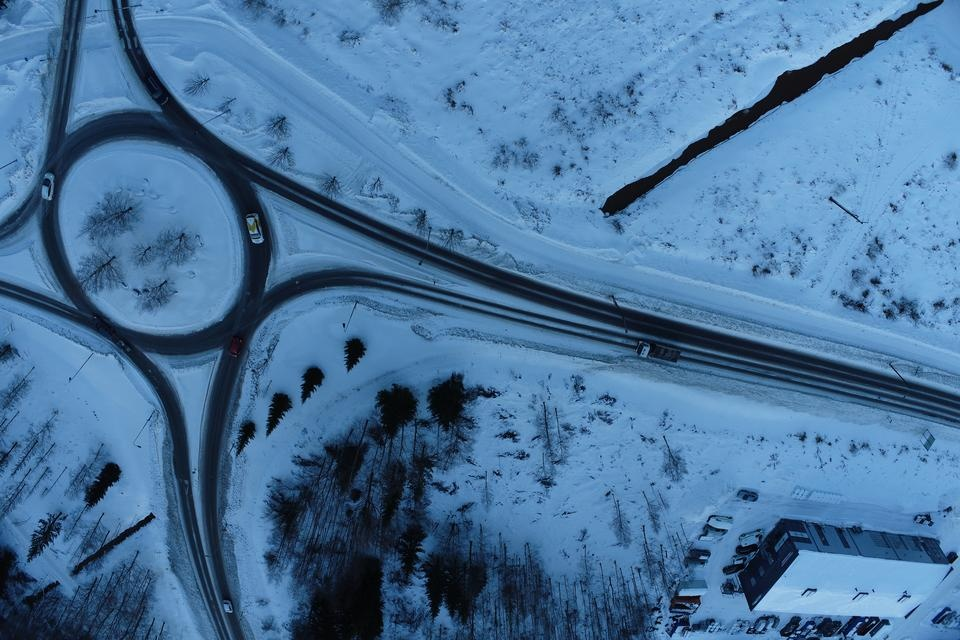roundabout: (4, 68, 313, 403)
